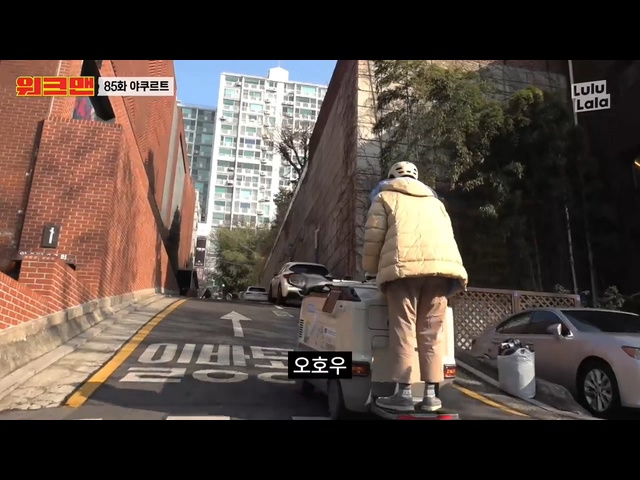Yakurut: (378, 167, 462, 401)
